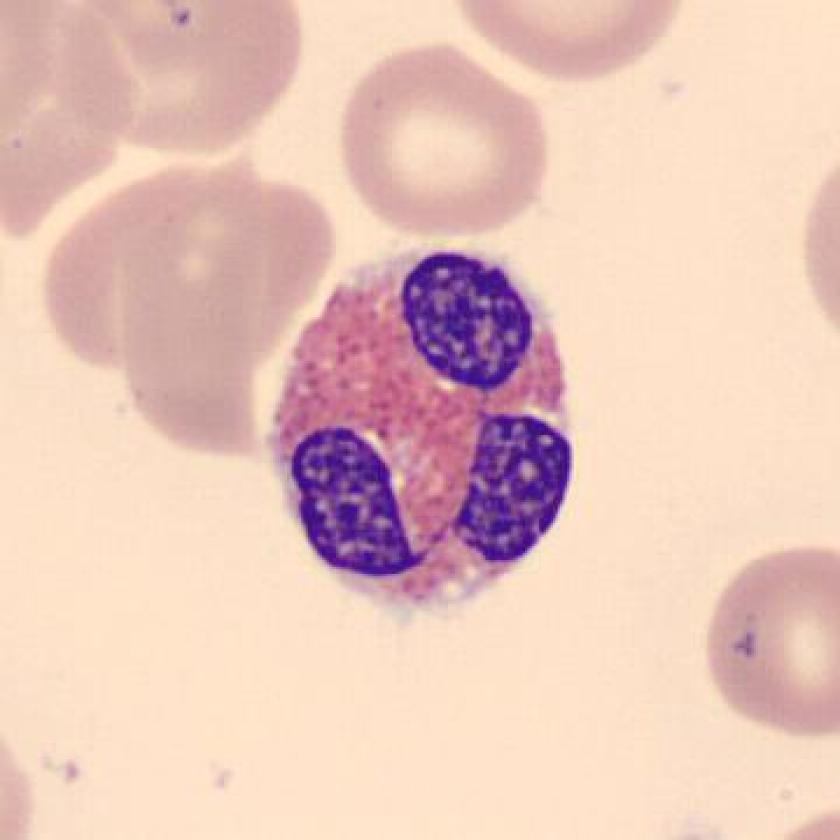eosinophil: (258, 239, 584, 642)
